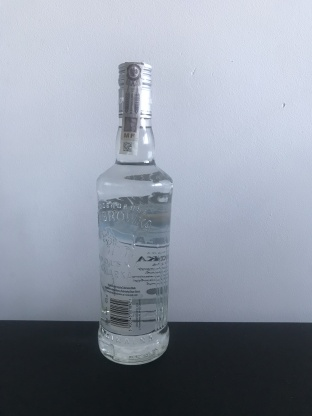nakretka: (115, 57, 154, 121)
